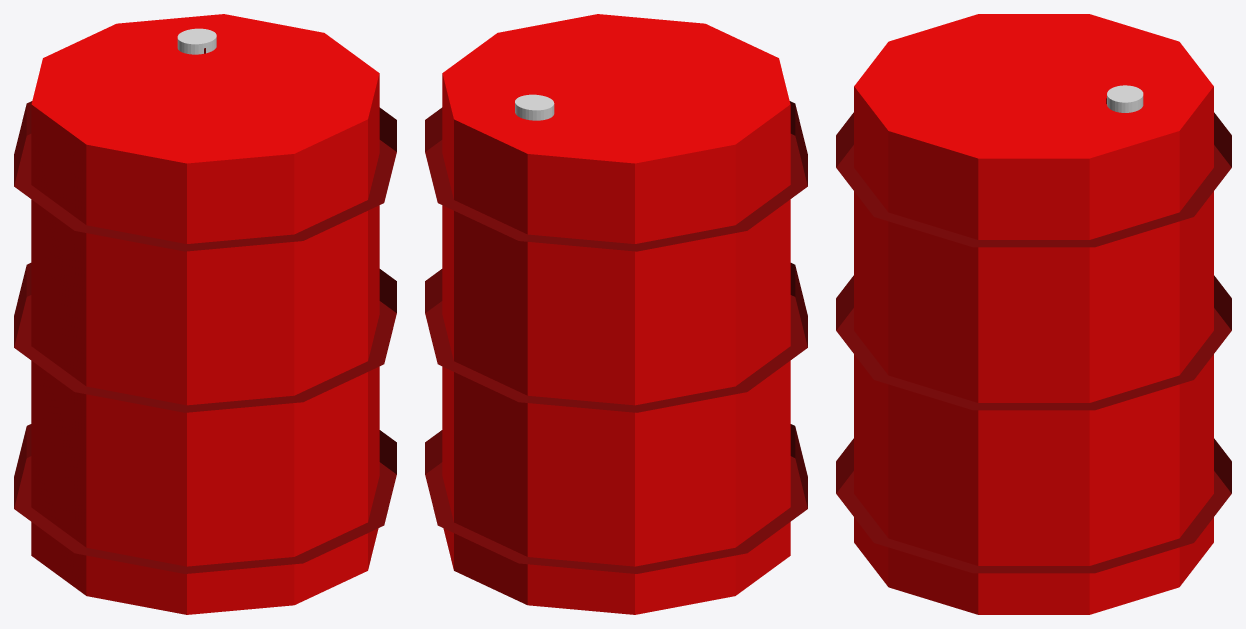
Rendered from barrel.fbx.
3 views of the same model, side by side, from view 1: azimuth 30°, elevation 25°; view 2: azimuth 150°, elevation 25°; view 3: azimuth 270°, elevation 25° (orthographic).
Parts seen in each view (by area): view 1: Hordo, Nyito_ize; view 2: Hordo, Nyito_ize; view 3: Hordo, Nyito_ize.
Part boxes in pixels (x1,y1,x2,y2): Hordo: (14,14,396,614); Nyito_ize: (177,28,216,54); Hordo: (425,14,807,614); Nyito_ize: (515,94,554,120); Hordo: (836,14,1231,614); Nyito_ize: (1107,85,1143,112).
Size of the model in its own units: 209 by 286 by 220.
